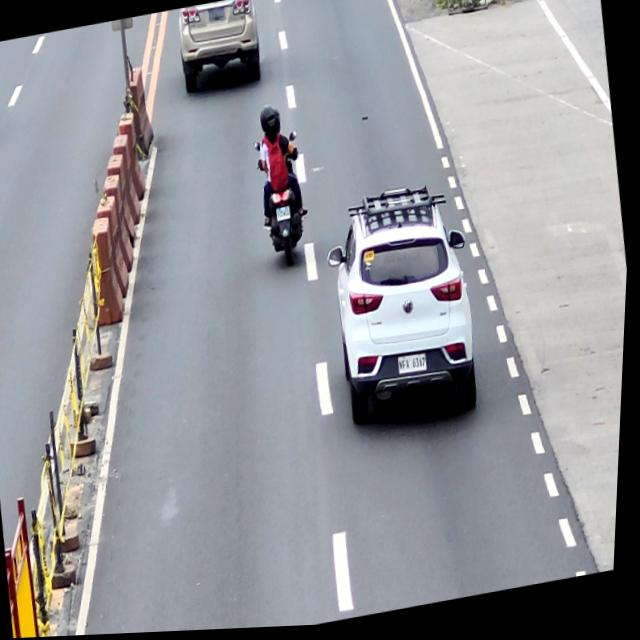Car: (319, 185, 493, 435), (172, 0, 268, 102)
License-Plate: (399, 355, 433, 381), (207, 9, 226, 24), (277, 209, 294, 225)
Motorcycle: (250, 132, 318, 274)
